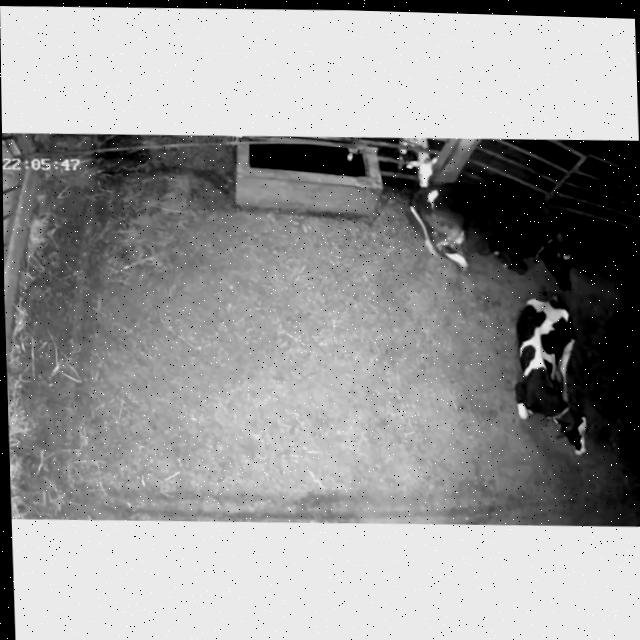lay: (406, 179, 589, 294), (505, 284, 600, 457)
